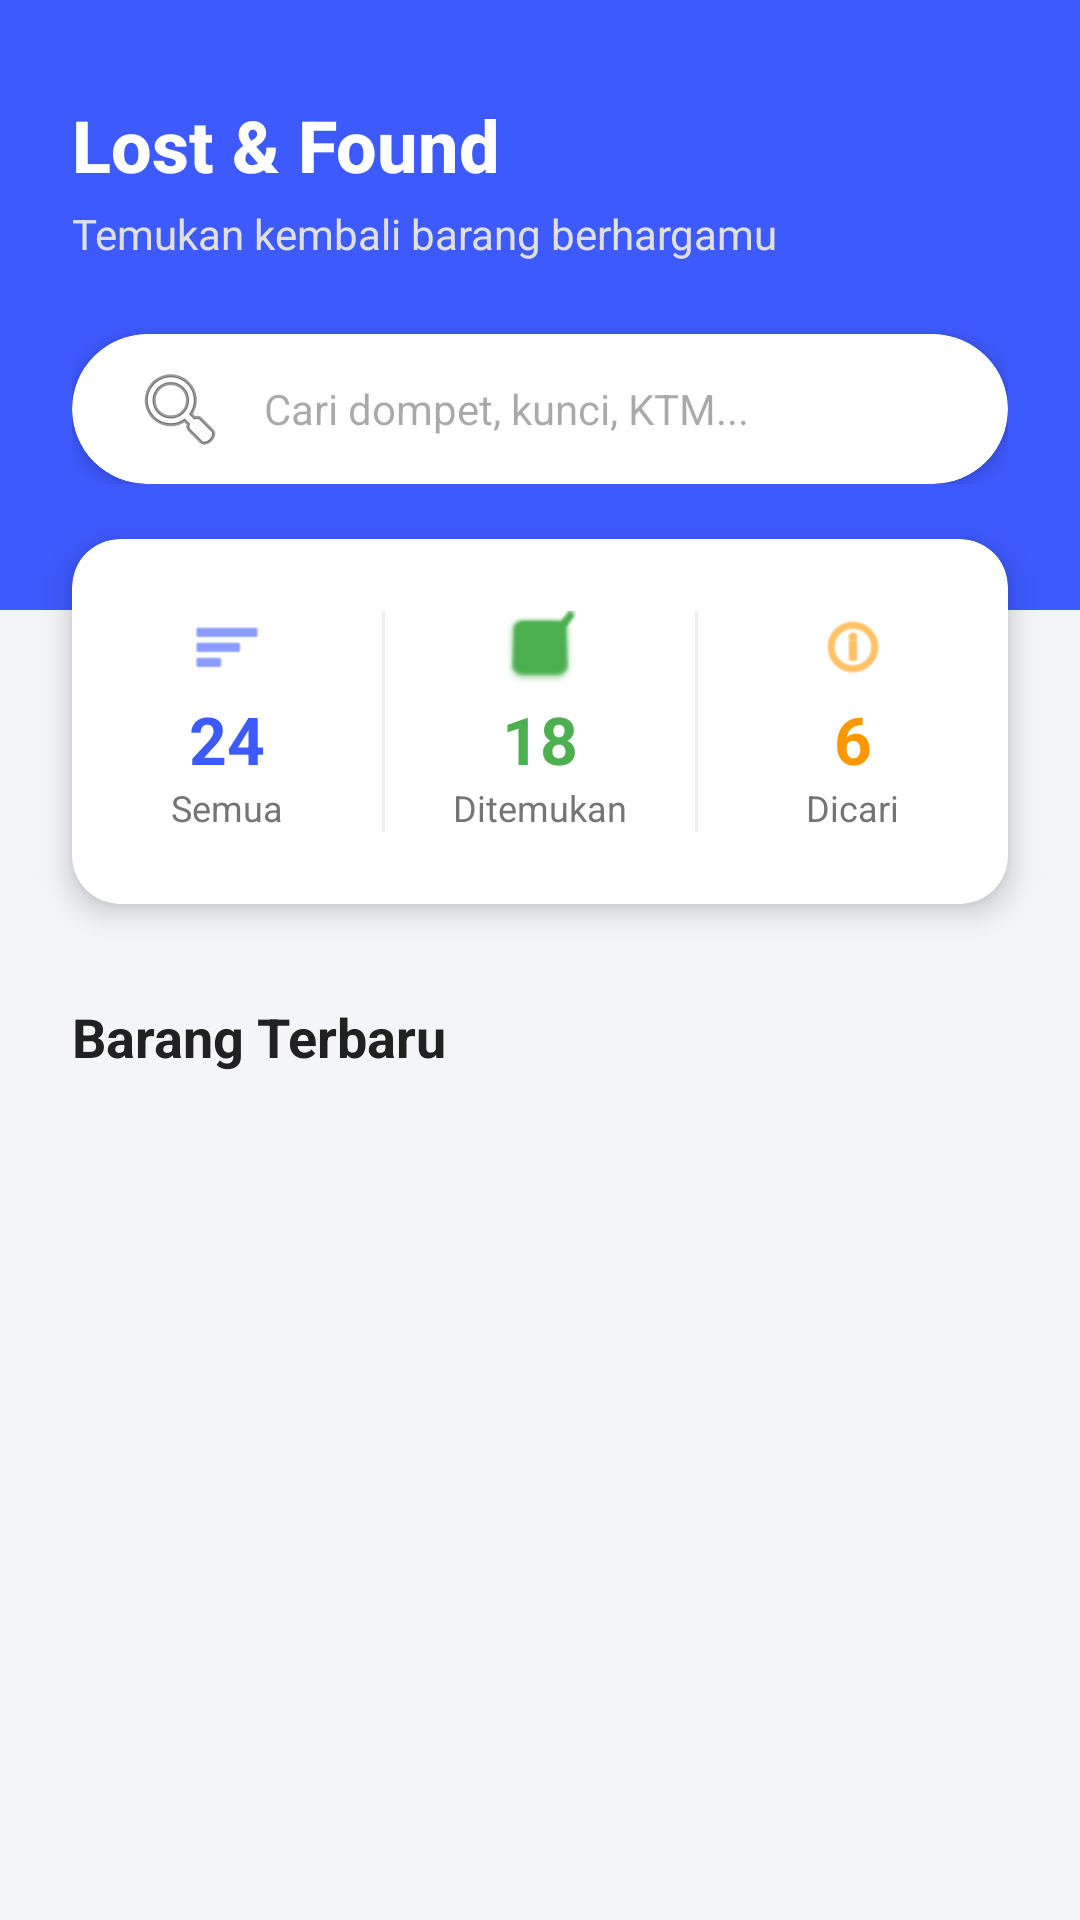

Named icons in this screenshot (1080×1920) and their bounding boxes, (x1, y1, x2, y2):
sort by size: (196, 627, 258, 668)
